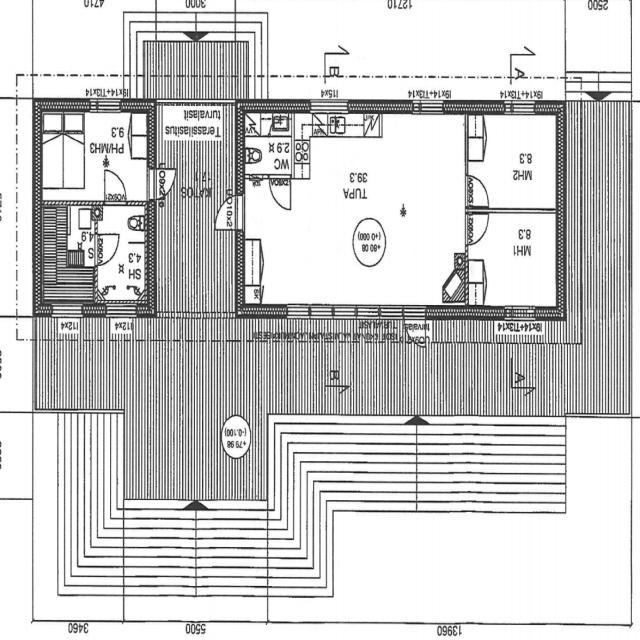door: (101, 164, 129, 205), (94, 230, 122, 268), (213, 196, 240, 231), (268, 174, 292, 212), (467, 174, 491, 207), (467, 210, 489, 245)
window: (104, 299, 140, 321), (90, 97, 122, 115), (416, 99, 445, 117), (311, 100, 348, 114), (509, 100, 537, 117)
zone: (300, 113, 460, 298), (38, 109, 150, 200), (467, 210, 559, 312), (470, 112, 560, 212), (94, 204, 150, 311), (39, 201, 98, 275), (243, 135, 293, 177), (465, 260, 484, 306), (323, 52, 348, 77)
